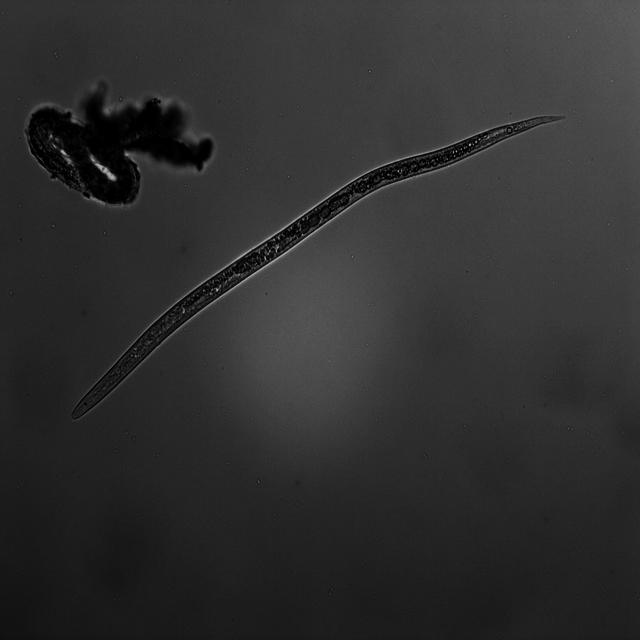Meloidogyne: (64, 104, 577, 421)
